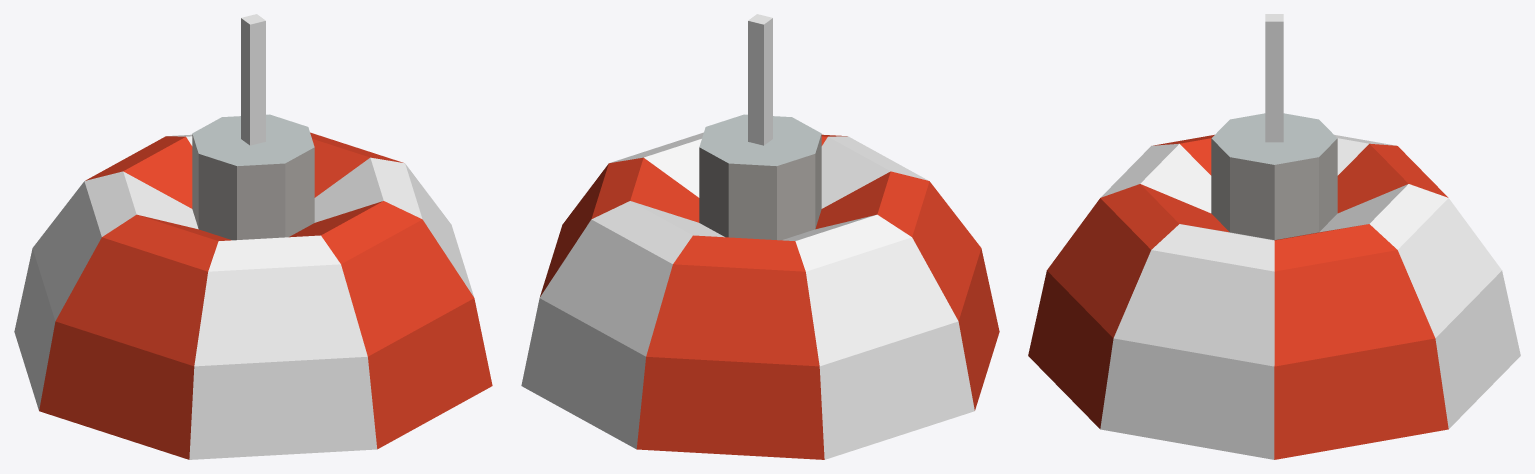
File: zhuangshi_16.FBX
The picture shows the model from 3 angles, left to right: view 1: azimuth 30°, elevation 25°; view 2: azimuth 150°, elevation 25°; view 3: azimuth 270°, elevation 25°; orthographic projection.
Parts seen in each view (by area): view 1: zhuangshi_009; view 2: zhuangshi_009; view 3: zhuangshi_009.
Part boxes in pixels (x1,y1,x2,y2): zhuangshi_009: [14, 14, 492, 459]; zhuangshi_009: [521, 14, 999, 459]; zhuangshi_009: [1028, 14, 1520, 459].
Size of the model in its own units: 523 by 396 by 523.
